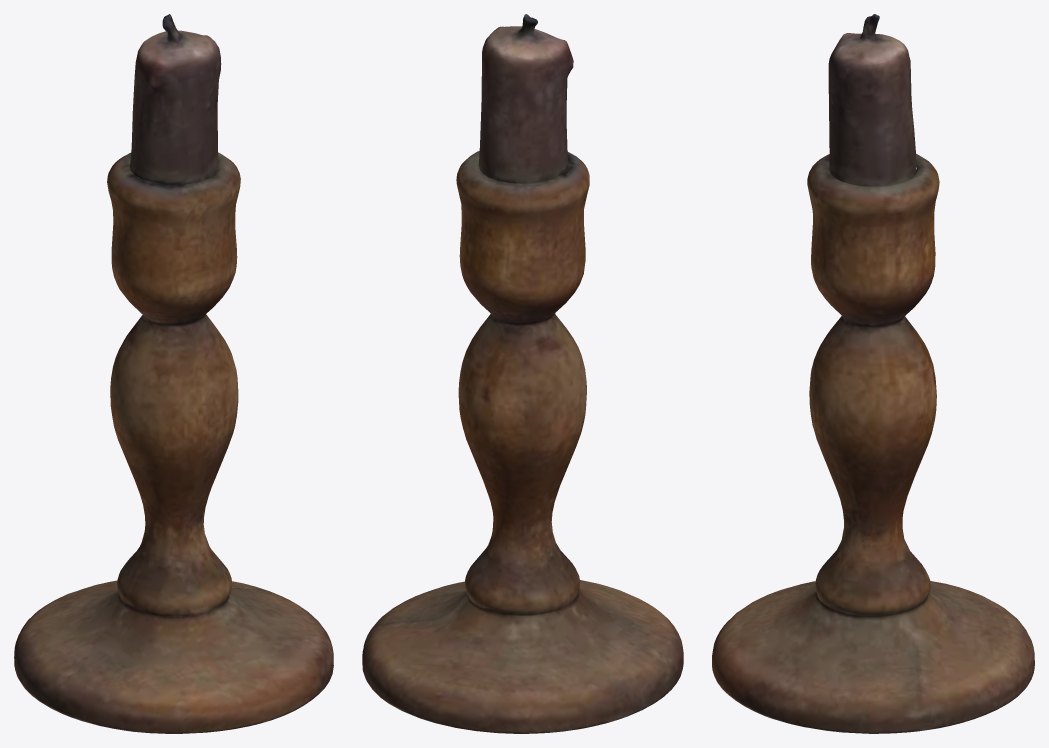
Rendered from wooden_candlestick.glb.
3 views of the same model, side by side, from view 1: azimuth 30°, elevation 25°; view 2: azimuth 150°, elevation 25°; view 3: azimuth 270°, elevation 25° (orthographic).
Parts seen in each view (by area): view 1: wooden_candlestick; view 2: wooden_candlestick; view 3: wooden_candlestick.
Boxes of the visible parts, x1,y1,x2,y2 form: wooden_candlestick: (14,14,333,733); wooden_candlestick: (362,14,683,733); wooden_candlestick: (712,14,1034,733).
Bounding box in the file's own units: 0.0972 × 0.2196 × 0.0986.
Materials: 1 (1 with a texture image).
